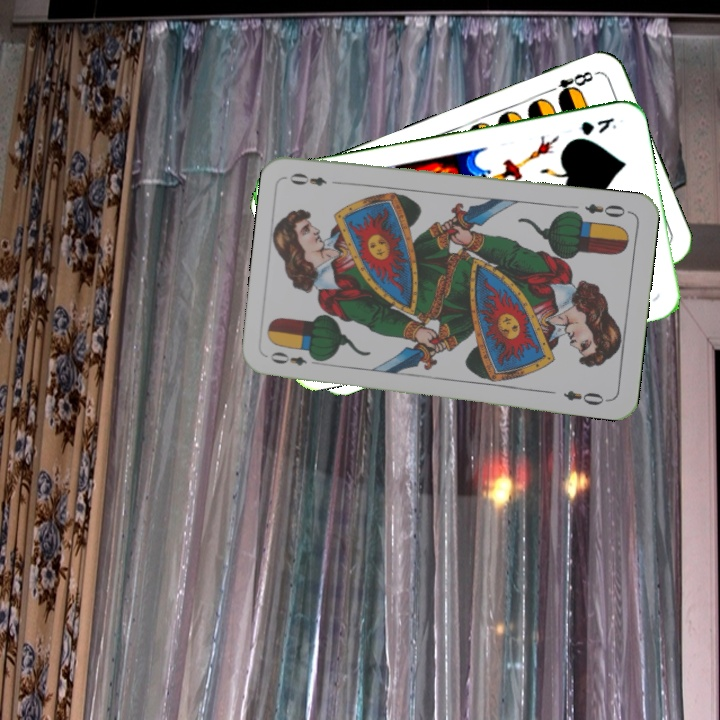E8: (543, 67, 600, 102)
EO: (266, 347, 324, 369), (581, 199, 633, 220)
GK: (577, 113, 619, 138)
